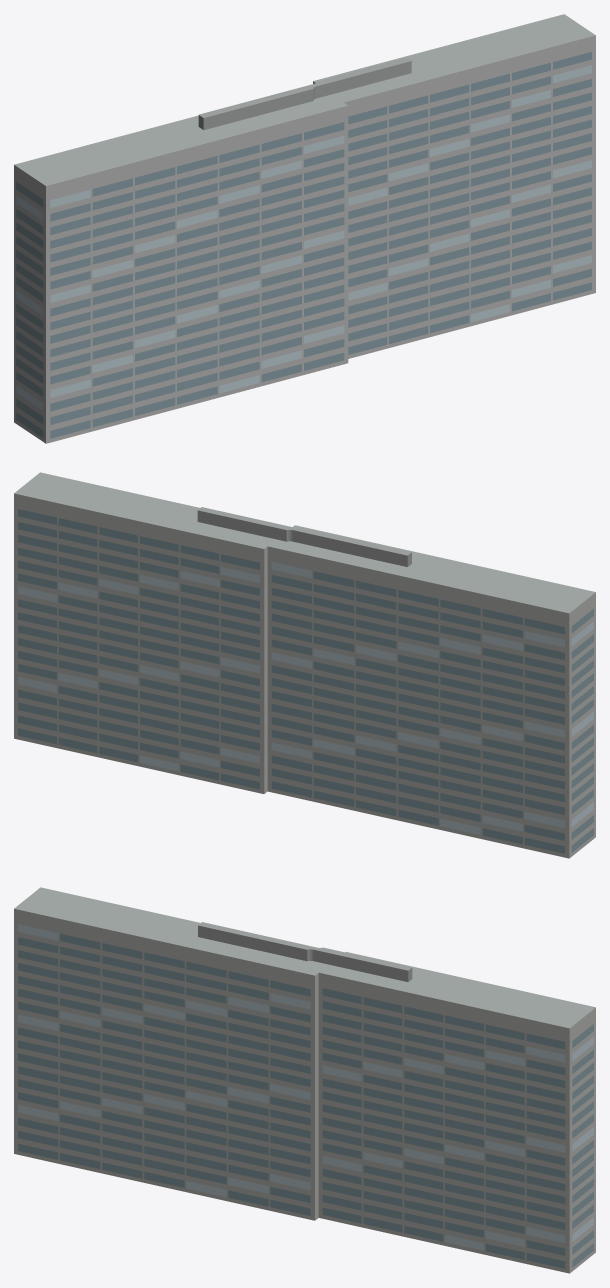
Rendered from apt-a13481802.glb.
3 renders of one model, top to bottom at view 1: azimuth 30°, elevation 25°; view 2: azimuth 150°, elevation 25°; view 3: azimuth 330°, elevation 25°, orthographic. The views are drawn at different scales.
Visible parts, largest first — view 1: apt-a13481802; view 2: apt-a13481802; view 3: apt-a13481802.
Boxes of the visible parts, box(x1,y1,x2,y2) form: apt-a13481802: box(14, 14, 595, 443); apt-a13481802: box(14, 472, 595, 858); apt-a13481802: box(14, 887, 595, 1273).
Bounding box in the file's own units: 110 × 50 × 15.71.
